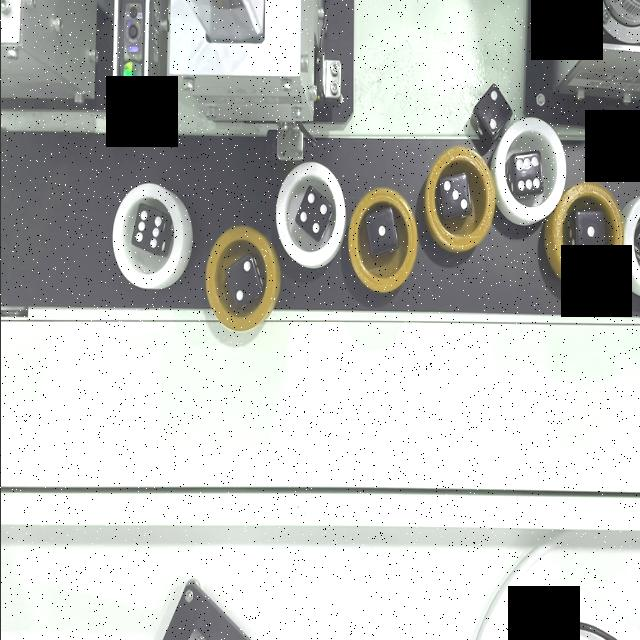DICE1: (368, 210, 392, 247)
DICE2: (478, 84, 504, 134), (229, 260, 258, 304)
DICE3: (438, 168, 470, 220), (572, 212, 602, 248)
DICE4: (294, 188, 328, 235)
DICE6: (510, 150, 540, 196), (132, 208, 162, 252)
RedChip: (346, 184, 418, 296), (203, 223, 279, 329), (550, 182, 622, 287), (424, 145, 494, 252)
WhiteChip: (110, 180, 192, 292), (493, 112, 566, 228), (273, 162, 347, 268), (625, 182, 640, 300)
